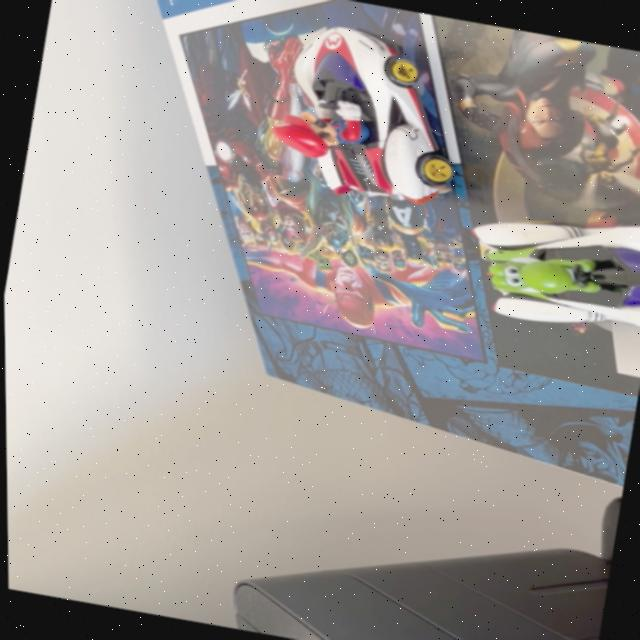mario: (244, 6, 494, 224)
yoshi: (444, 184, 640, 349)
